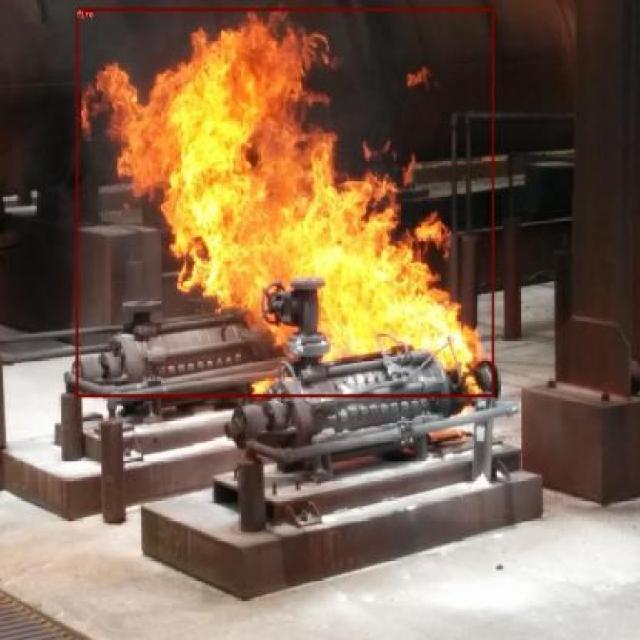Fire: (76, 8, 493, 397)
